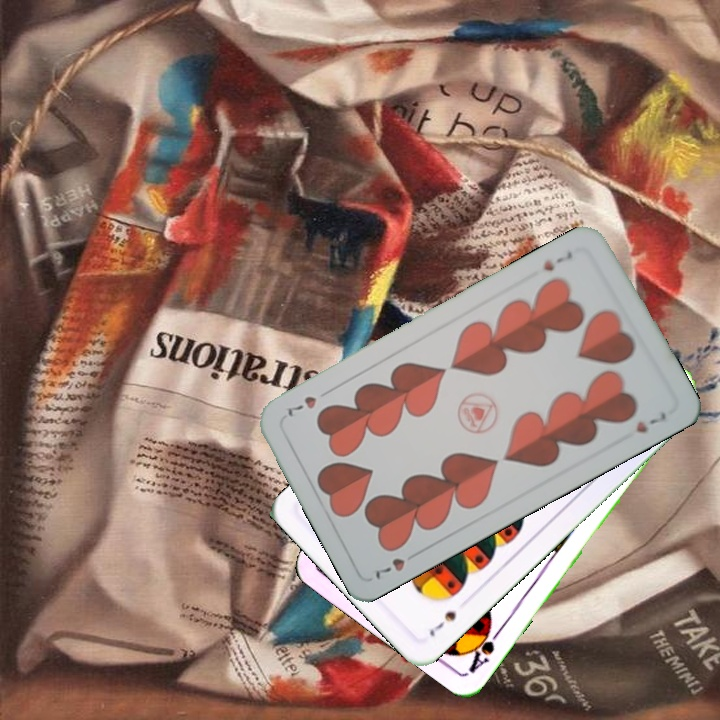H7: (371, 547, 423, 582), (539, 247, 575, 274)
S7: (425, 607, 459, 640)
SA: (464, 617, 505, 675)
